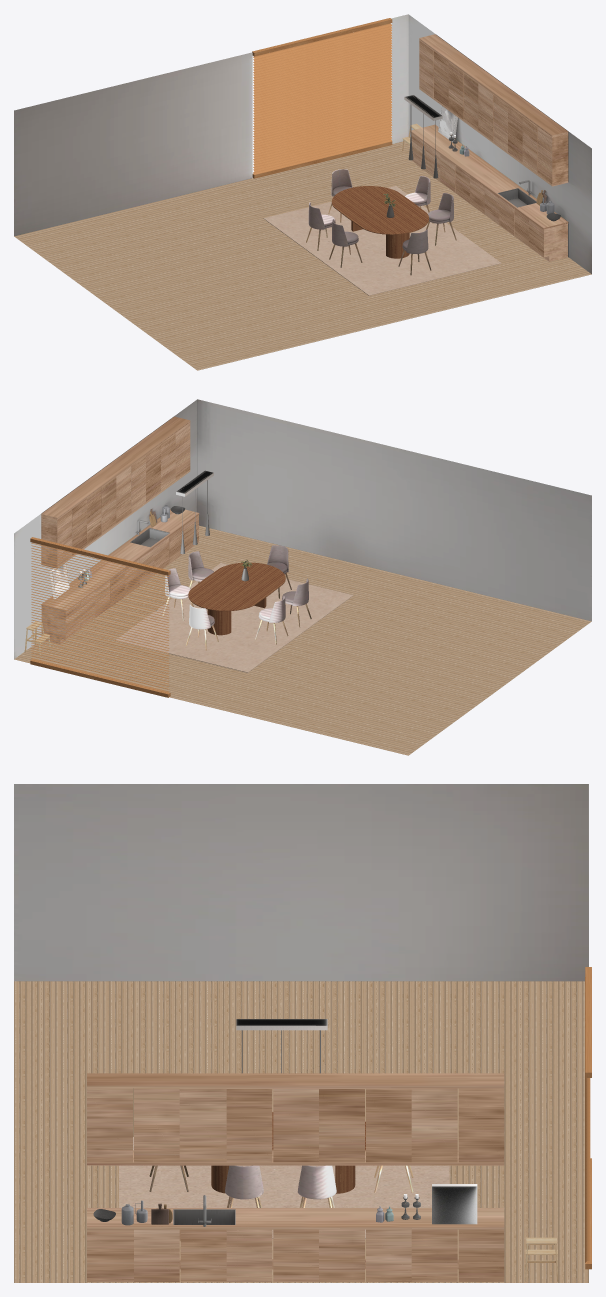
Rendered from room-transformed.glb.
3 renders of one model, top to bottom at view 1: azimuth 30°, elevation 25°; view 2: azimuth 150°, elevation 25°; view 3: azimuth 270°, elevation 25°, orthographic. The views are drawn at different scales.
Parts seen in each view (by area): view 1: floor, house, window_Material.016_0, cabinet_Material.015_0, carpet_Carpet _0, table_Material5.001_0, seat_Leather_0, faucet_Material.006_0; view 2: house, floor, cabinet_Material.015_0, window_Material.016_0, carpet_Carpet _0, table_Material5.001_0, seat_Leather_0, painting_Material.010_0, faucet_Material.006_0; view 3: house, floor, cabinet_Material.015_0, carpet_Carpet _0, seat_Leather_0, window_Material.016_0, painting_Material.010_0, lighting_Material.014_0, table_Material5.001_0, faucet_Material.006_0, IKEA seat_wood _0.
Boxes of the visible parts, x1,y1,x2,y2 form: floor: (14, 141, 591, 370); house: (14, 14, 591, 273); window_Material.016_0: (252, 18, 392, 178); cabinet_Material.015_0: (410, 34, 568, 261); carpet_Carpet _0: (263, 186, 501, 295); table_Material5.001_0: (331, 186, 428, 258); seat_Leather_0: (306, 169, 456, 275); faucet_Material.006_0: (498, 180, 536, 207); house: (14, 399, 591, 658); floor: (14, 525, 591, 755); cabinet_Material.015_0: (41, 416, 199, 644); window_Material.016_0: (30, 537, 170, 697); carpet_Carpet _0: (116, 563, 353, 672); table_Material5.001_0: (188, 562, 285, 635); seat_Leather_0: (162, 545, 311, 650); painting_Material.010_0: (50, 562, 69, 598); faucet_Material.006_0: (130, 520, 169, 547); house: (14, 784, 588, 981); floor: (14, 981, 588, 1282); cabinet_Material.015_0: (87, 1073, 504, 1281); carpet_Carpet _0: (119, 1137, 449, 1238); seat_Leather_0: (149, 1165, 413, 1207); window_Material.016_0: (585, 967, 591, 1269); painting_Material.010_0: (432, 1184, 477, 1224); lighting_Material.014_0: (236, 1019, 327, 1030); table_Material5.001_0: (211, 1112, 365, 1193); faucet_Material.006_0: (173, 1195, 235, 1226); IKEA seat_wood _0: (525, 1237, 558, 1281).
Bounding box in the file's own units: 19.93 × 6.08 × 16.14.
Materials: 26 (24 with a texture image).
